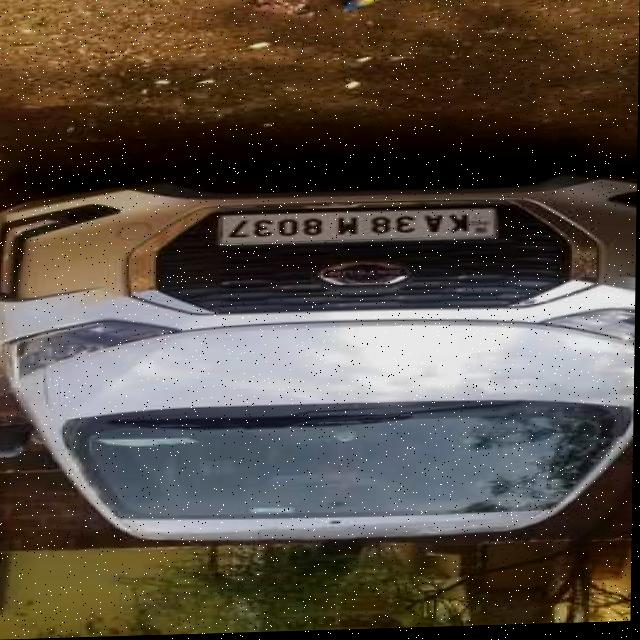plate: (218, 206, 505, 251)
